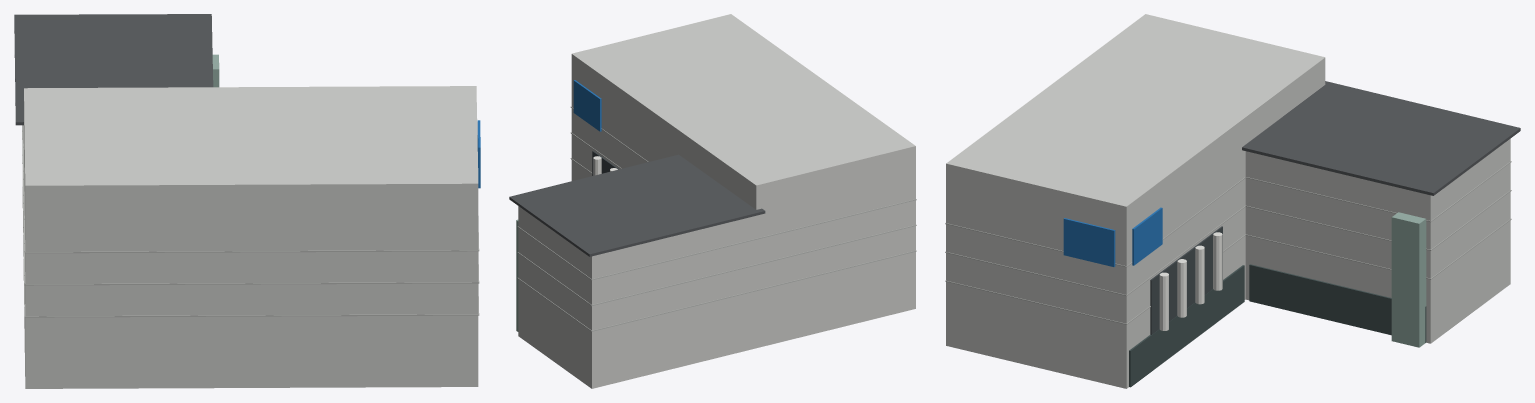
Rendered from tiger-city.glb.
3 renders of one model, left to right at view 1: azimuth 30°, elevation 25°; view 2: azimuth 150°, elevation 25°; view 3: azimuth 270°, elevation 25°, orthographic. The views are drawn at different scales.
Visible parts, largest first — view 1: tiger-city; view 2: tiger-city; view 3: tiger-city.
Part boxes in pixels (x1,y1,x2,y2): tiger-city: [14, 14, 480, 388]; tiger-city: [509, 14, 916, 388]; tiger-city: [945, 14, 1520, 388].
Size of the model in its own units: 86.53 by 38 by 109.
